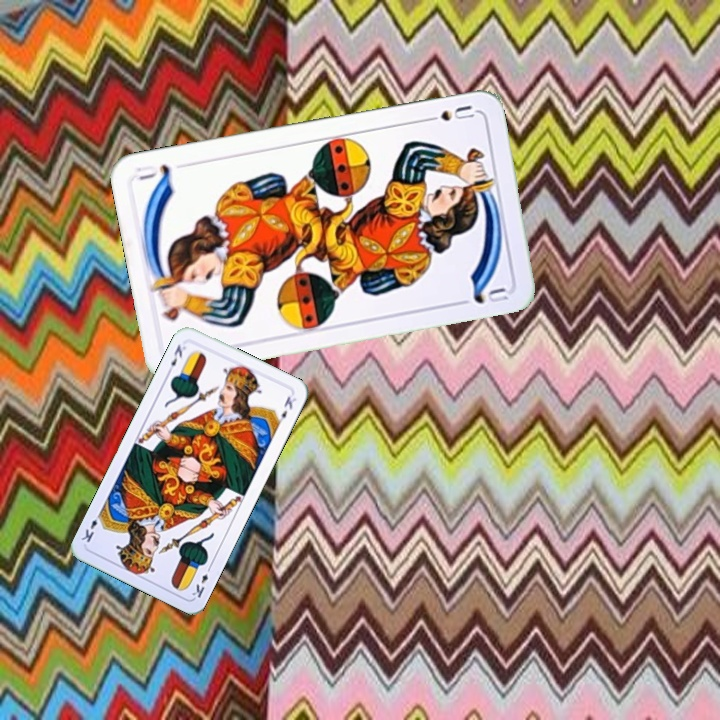EK: (188, 561, 214, 601), (163, 340, 189, 377)
SU: (419, 101, 478, 125)
